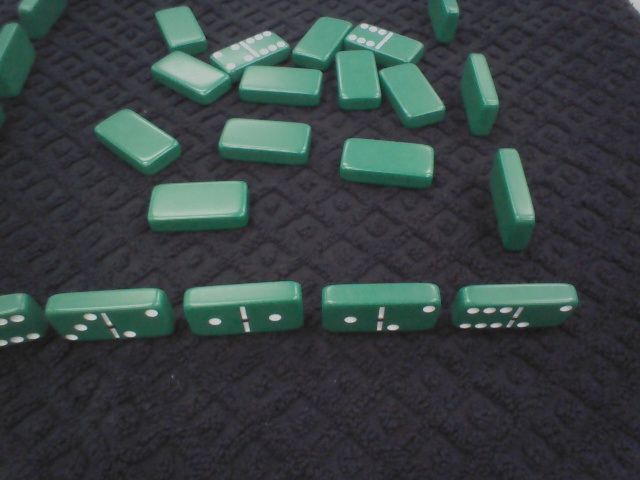A: (95, 113, 181, 170), (149, 179, 248, 228), (343, 136, 432, 186), (221, 116, 309, 164), (380, 63, 445, 124), (153, 52, 232, 102), (237, 68, 320, 103), (336, 54, 380, 109), (296, 16, 347, 63), (156, 6, 205, 51)
B: (345, 22, 424, 63), (209, 32, 288, 65)
C: (1, 23, 36, 91), (20, 3, 67, 31)
D: (490, 149, 537, 248), (459, 52, 500, 136), (425, 1, 460, 40)
E: (49, 289, 174, 342), (184, 283, 303, 336), (317, 282, 443, 332), (453, 284, 577, 329), (2, 294, 43, 350)
